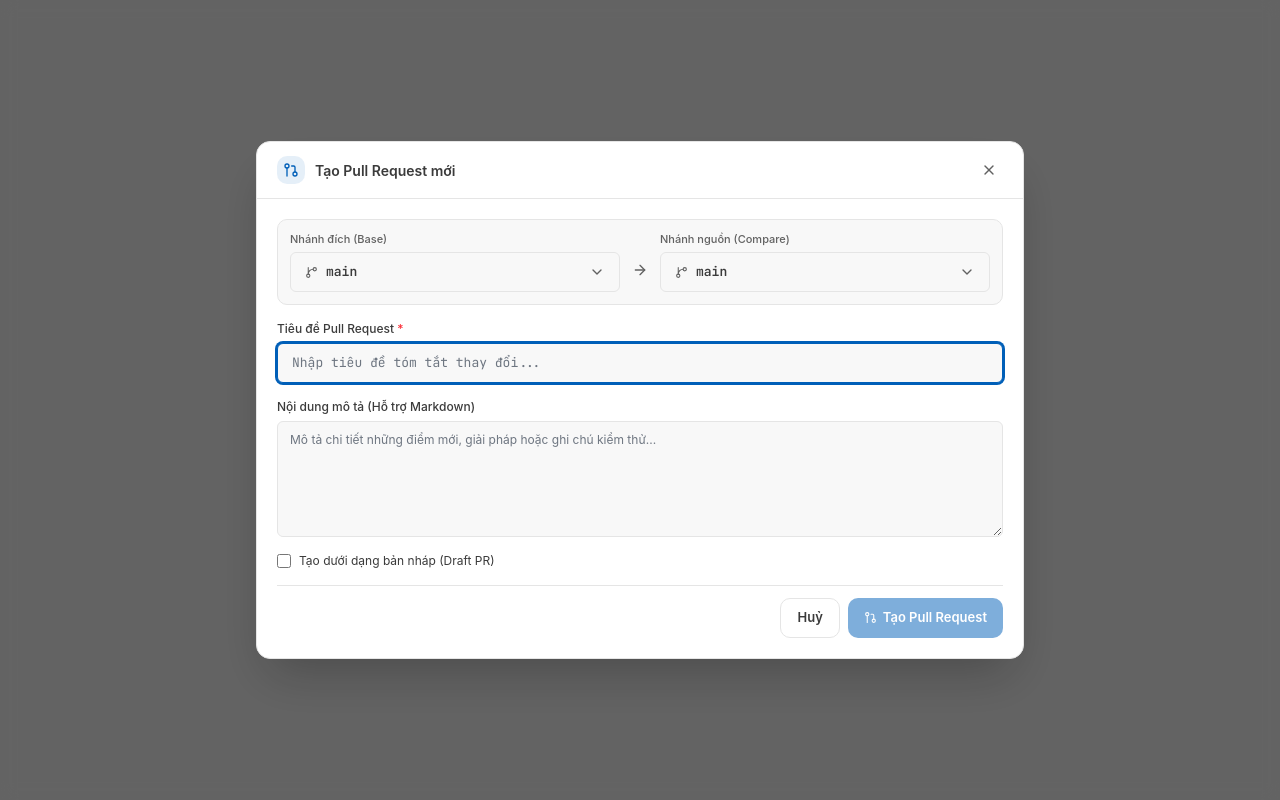
Test: CreatePullRequestModal › shows error when GitHub token is missing
Expected: the heading "Tạo Pull Request mới" is shown, left=315, top=162, right=456, bottom=179
Type "Add login page UI" into the field with placeholder "Nhập tiêu đề tóm tắt thay đổi...".
click(640, 363); type("Add login page UI")  # box left=277, top=343, right=1003, bottom=383
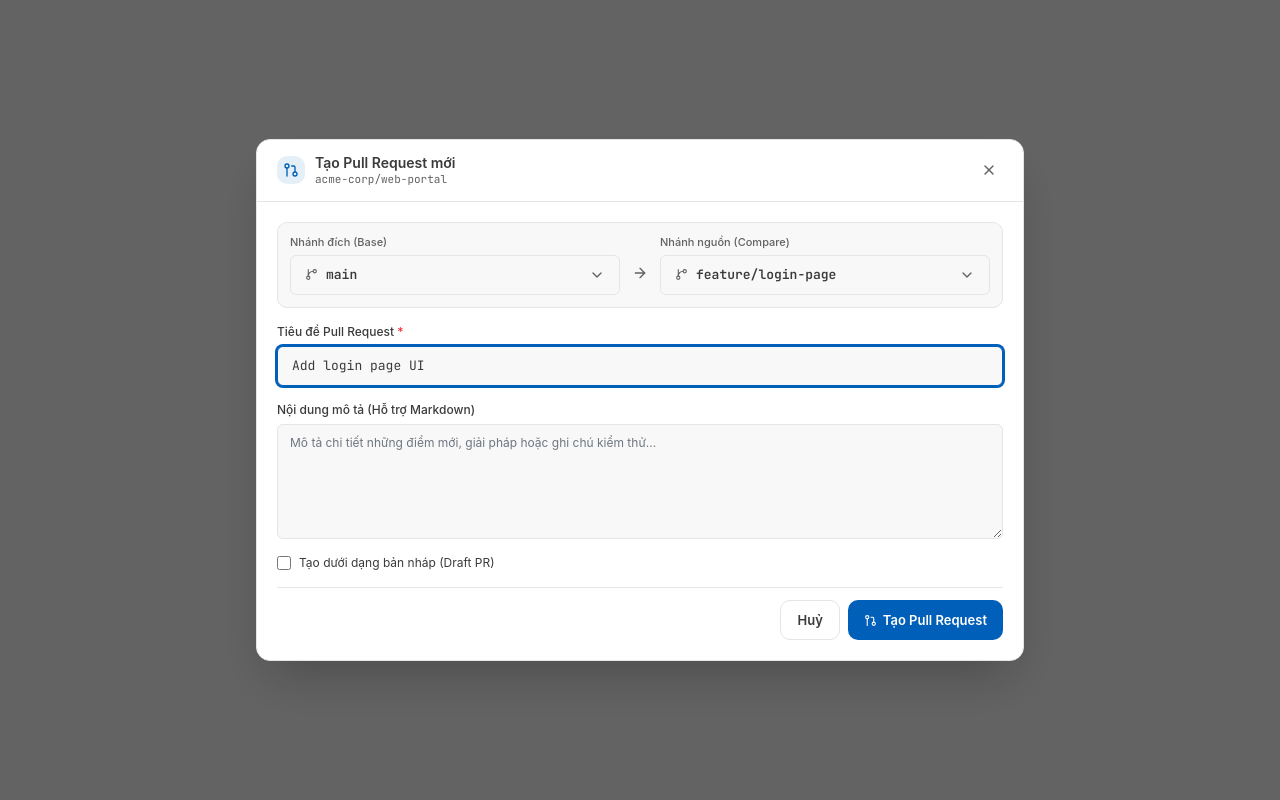
Click the button "Tạo Pull Request".
click(925, 620)  # box left=848, top=600, right=1003, bottom=640
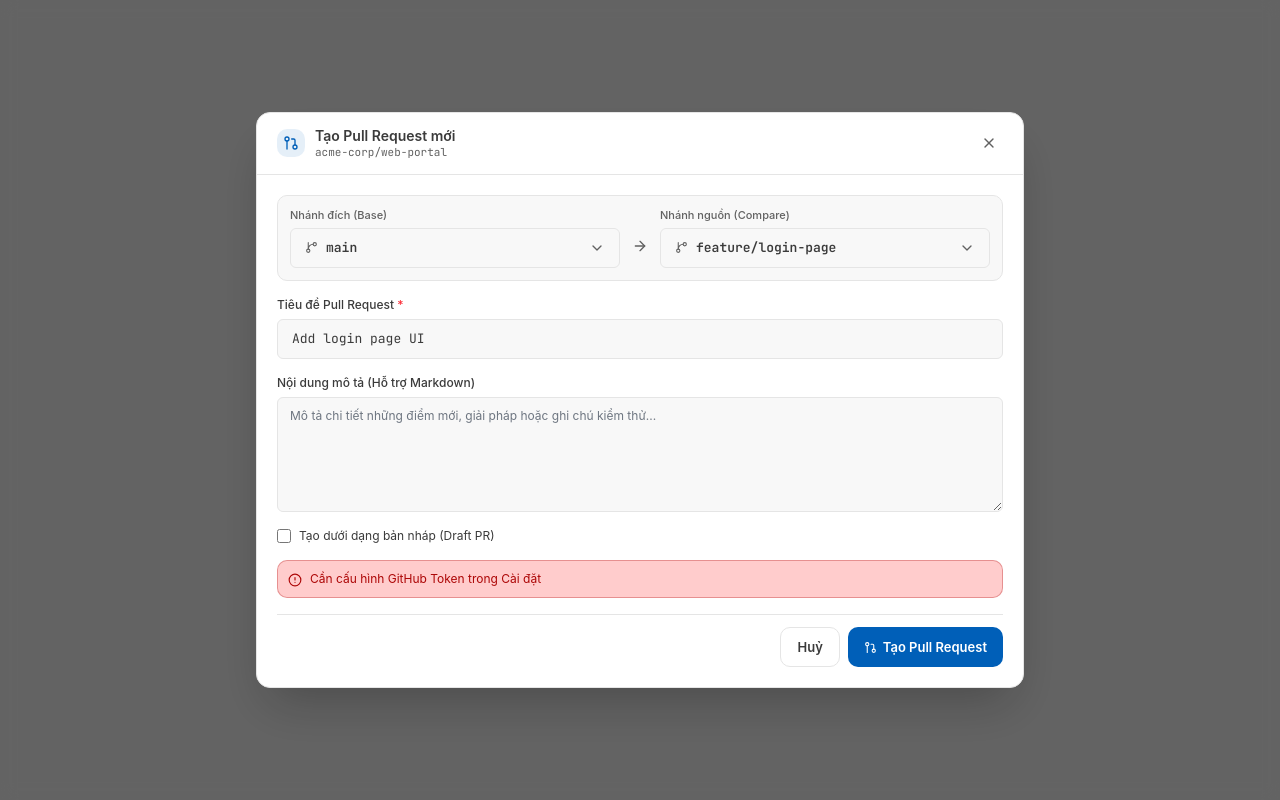
Expected: the text "Cần cấu hình GitHub Token trong Cài đặt" is shown, left=310, top=571, right=541, bottom=587
